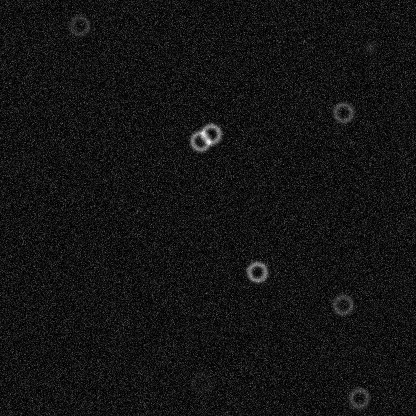Ring: (67, 13, 91, 37), (188, 128, 212, 152), (331, 100, 355, 124), (188, 370, 212, 394), (346, 386, 370, 410), (245, 259, 269, 283), (330, 292, 354, 316), (198, 121, 222, 145)
Spot: (362, 39, 378, 55)
